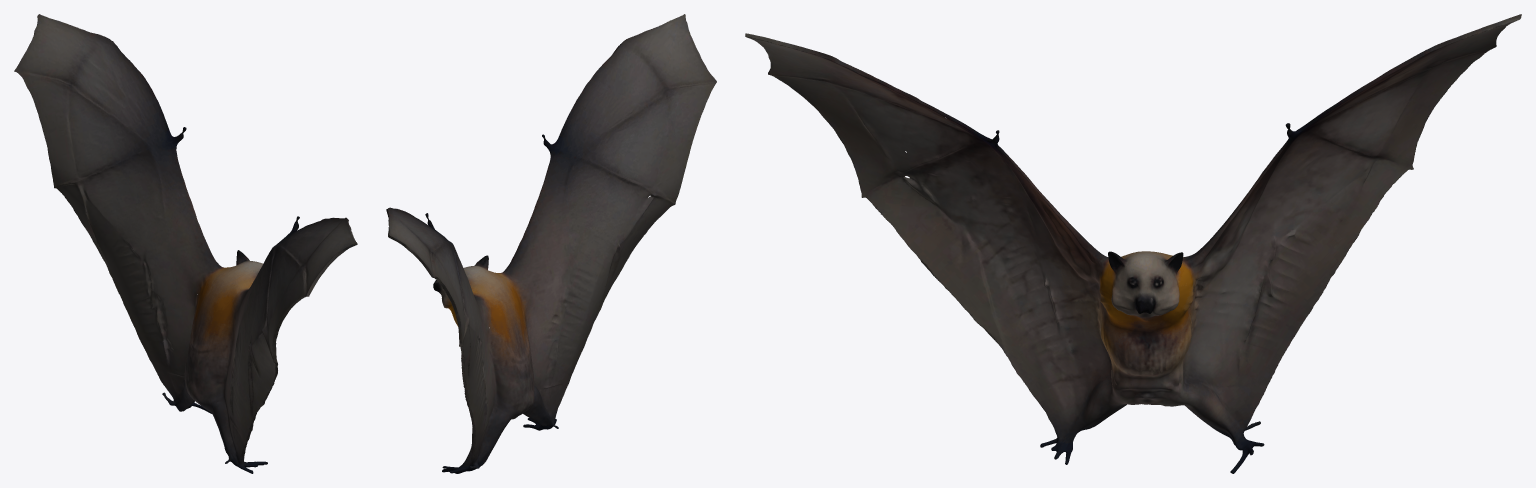
The model's file is asset.glb.
3 views of the same model, side by side, from view 1: azimuth 30°, elevation 25°; view 2: azimuth 150°, elevation 25°; view 3: azimuth 270°, elevation 25° (orthographic). The views are drawn at different scales.
Parts seen in each view (by area): view 1: tripo_node_d4a73892-587f-4e1c-a57b-17f79011b862; view 2: tripo_node_d4a73892-587f-4e1c-a57b-17f79011b862; view 3: tripo_node_d4a73892-587f-4e1c-a57b-17f79011b862.
Part boxes in pixels (left/top/right/bottom): tripo_node_d4a73892-587f-4e1c-a57b-17f79011b862: left=14, top=14, right=357, bottom=473; tripo_node_d4a73892-587f-4e1c-a57b-17f79011b862: left=386, top=14, right=716, bottom=473; tripo_node_d4a73892-587f-4e1c-a57b-17f79011b862: left=745, top=14, right=1521, bottom=473.
Bounding box in the file's own units: 0.2603 × 0.5998 × 0.9983.
1 material, 1 textured.
